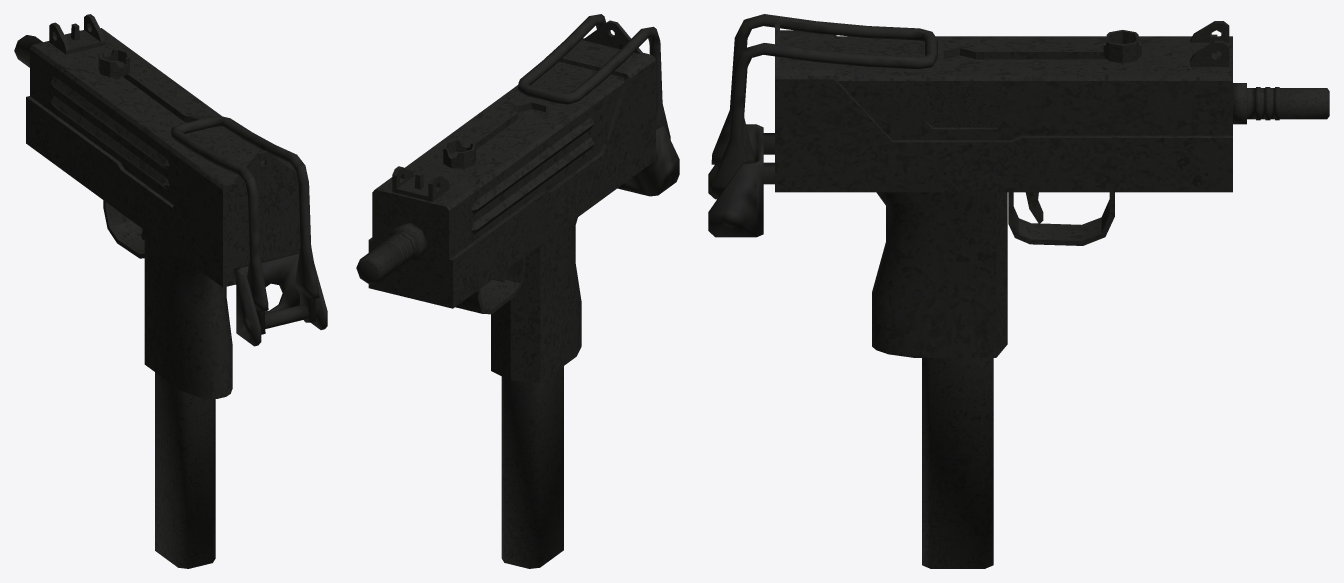
The model's file is MAC-11.fbx.
3 renders of one model, left to right at view 1: azimuth 30°, elevation 25°; view 2: azimuth 150°, elevation 25°; view 3: azimuth 270°, elevation 25°, orthographic. The views are drawn at different scales.
Visible parts, largest first — view 1: Base, Magazine, Stock, Crosshair, Bolt, Barrel; view 2: Base, Magazine, Stock, Barrel, Crosshair, Bolt; view 3: Base, Magazine, Stock, Barrel, Bolt1, Crosshair, Bolt.
Part boxes in pixels (bbox=[...]): Base: bbox=[26, 28, 300, 398]; Magazine: bbox=[155, 372, 215, 568]; Stock: bbox=[170, 116, 327, 346]; Crosshair: bbox=[49, 14, 104, 54]; Bolt: bbox=[98, 49, 129, 79]; Barrel: bbox=[14, 35, 42, 67]; Base: bbox=[368, 20, 655, 382]; Magazine: bbox=[501, 366, 563, 568]; Stock: bbox=[517, 14, 679, 196]; Barrel: bbox=[356, 222, 427, 284]; Crosshair: bbox=[392, 166, 449, 201]; Bolt: bbox=[443, 139, 475, 168]; Base: bbox=[775, 22, 1232, 357]; Magazine: bbox=[922, 358, 993, 568]; Stock: bbox=[708, 14, 937, 237]; Barrel: bbox=[1233, 83, 1329, 124]; Bolt1: bbox=[926, 87, 1004, 127]; Crosshair: bbox=[1190, 21, 1229, 66]; Bolt: bbox=[1103, 30, 1141, 63].
Bounding box in the file's own units: 43.85 × 235 × 248.
1 material, 1 textured.
